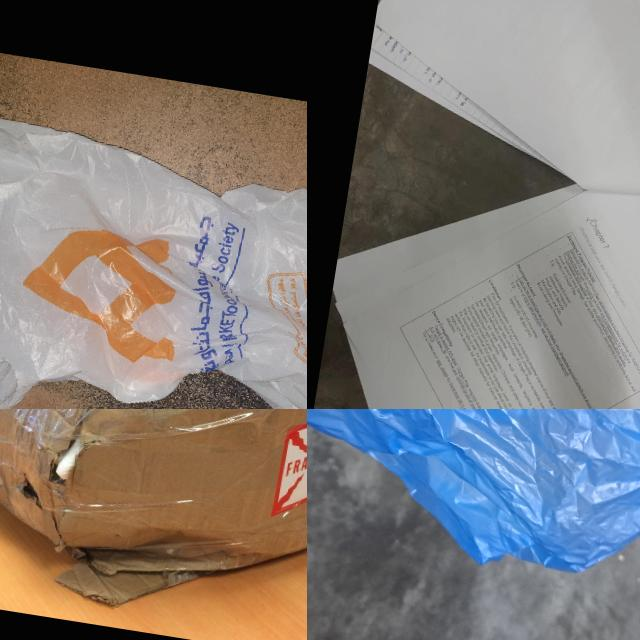papel: (307, 0, 640, 409)
papelão: (0, 409, 307, 640)
sacola plástica: (0, 96, 307, 409), (307, 409, 640, 606)
